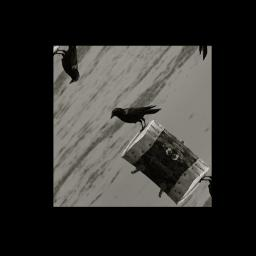Crow: (106, 83, 164, 142)
